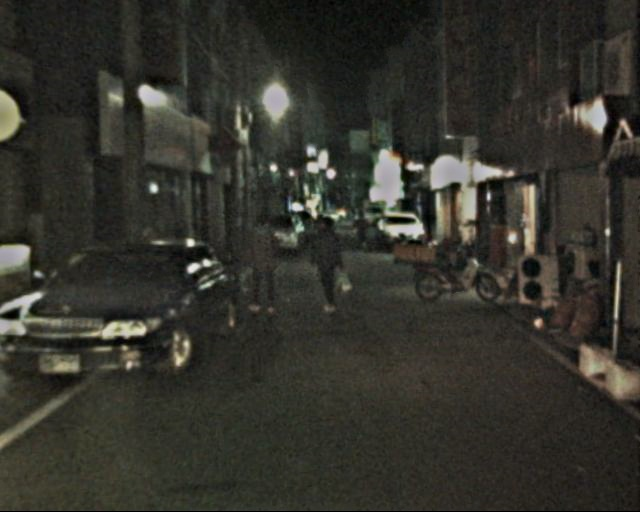person: (241, 215, 283, 316), (309, 215, 350, 315), (355, 210, 372, 248)
